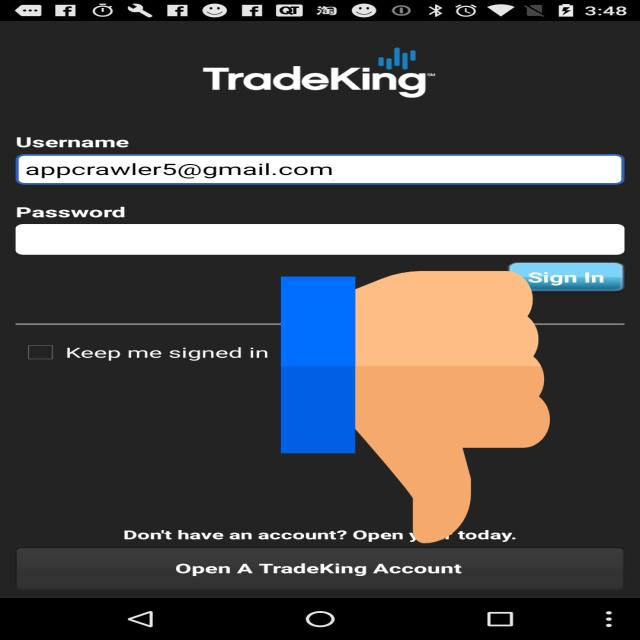obstruction: (281, 264, 550, 550)
